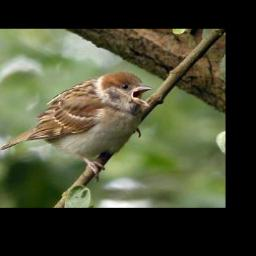Sparrow: (0, 69, 153, 183)
